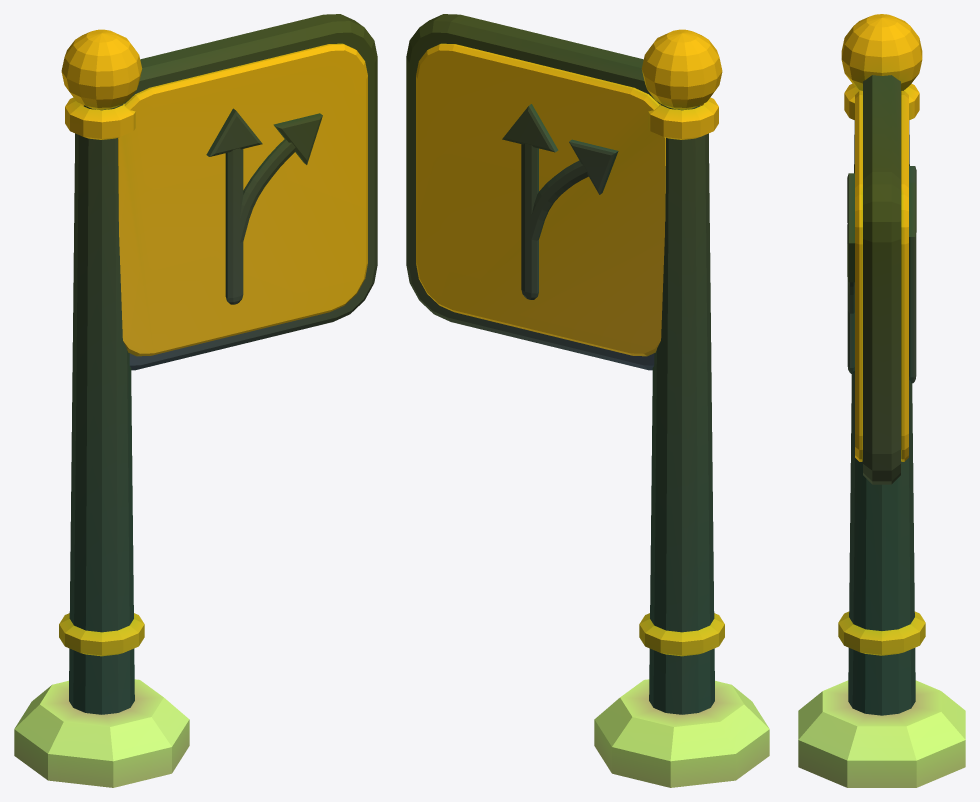
The model's file is Service_SwitchMarker.fbx.
The picture shows the model from 3 angles, left to right: view 1: azimuth 30°, elevation 25°; view 2: azimuth 150°, elevation 25°; view 3: azimuth 270°, elevation 25°; orthographic projection. The views are drawn at different scales.
Visible parts, largest first — view 1: Service_SwitchMarker; view 2: Service_SwitchMarker; view 3: Service_SwitchMarker.
Part boxes in pixels (x1=…): Service_SwitchMarker: x1=14, y1=14, x2=377, y2=787; Service_SwitchMarker: x1=406, y1=14, x2=769, y2=787; Service_SwitchMarker: x1=798, y1=14, x2=965, y2=787.
Size of the model in its own units: 0.5359 by 1.08 by 0.2217.
